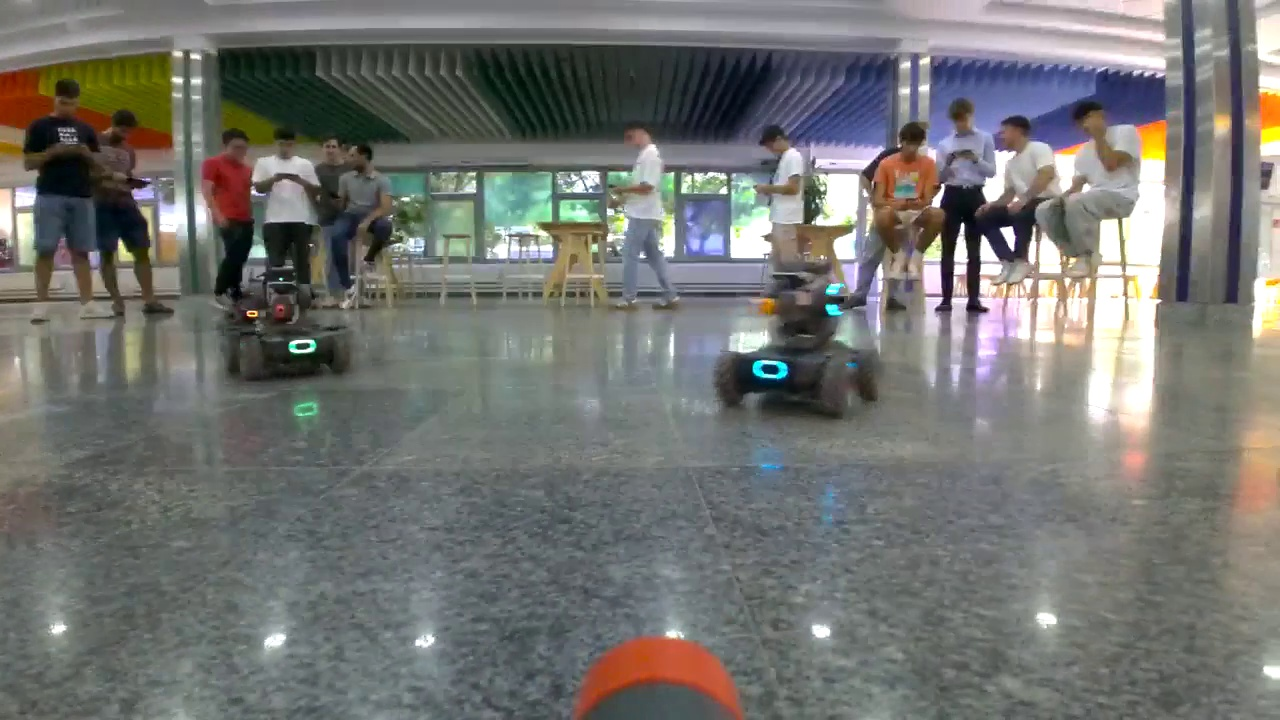robot: (716, 257, 882, 417), (233, 267, 351, 382)
